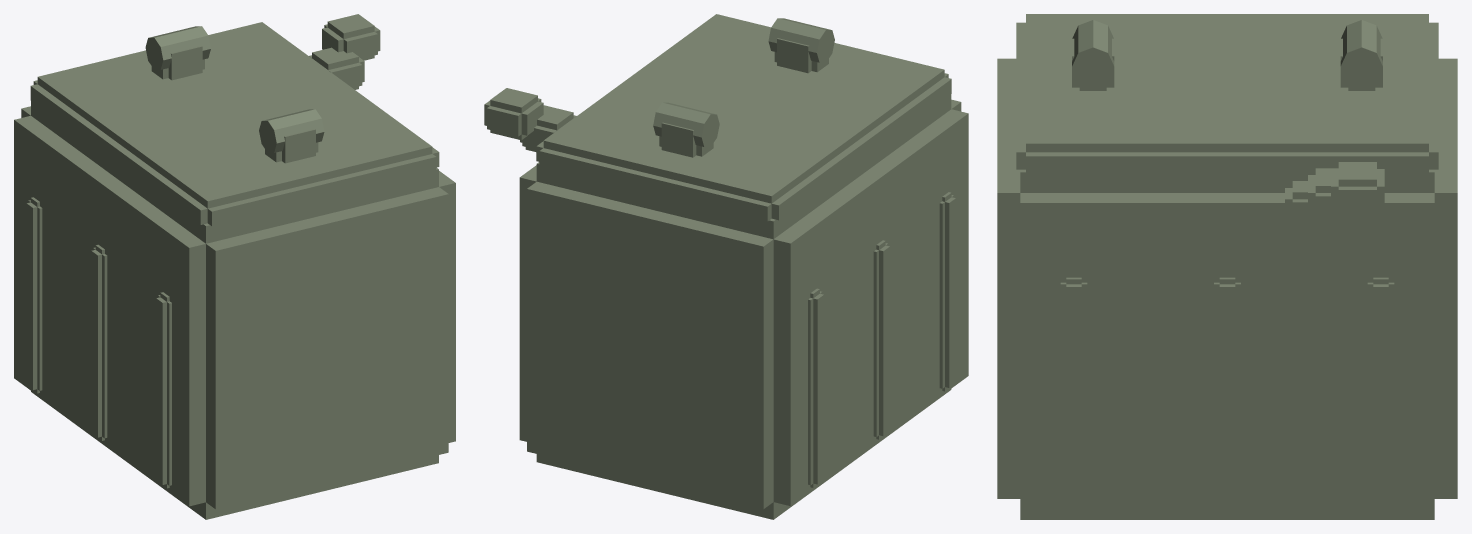
Rendered from mk19_ammo_can.glb.
The picture shows the model from 3 angles, left to right: view 1: azimuth 30°, elevation 25°; view 2: azimuth 150°, elevation 25°; view 3: azimuth 270°, elevation 25°; orthographic projection. The views are drawn at different scales.
Visible parts, largest first — view 1: mk19_ammo_can; view 2: mk19_ammo_can; view 3: mk19_ammo_can.
Boxes of the visible parts, x1,y1,x2,y2 form: mk19_ammo_can: (14,14,455,519); mk19_ammo_can: (484,14,968,519); mk19_ammo_can: (997,14,1457,519).
Bounding box in the file's own units: 0.237 × 0.241 × 0.24.
